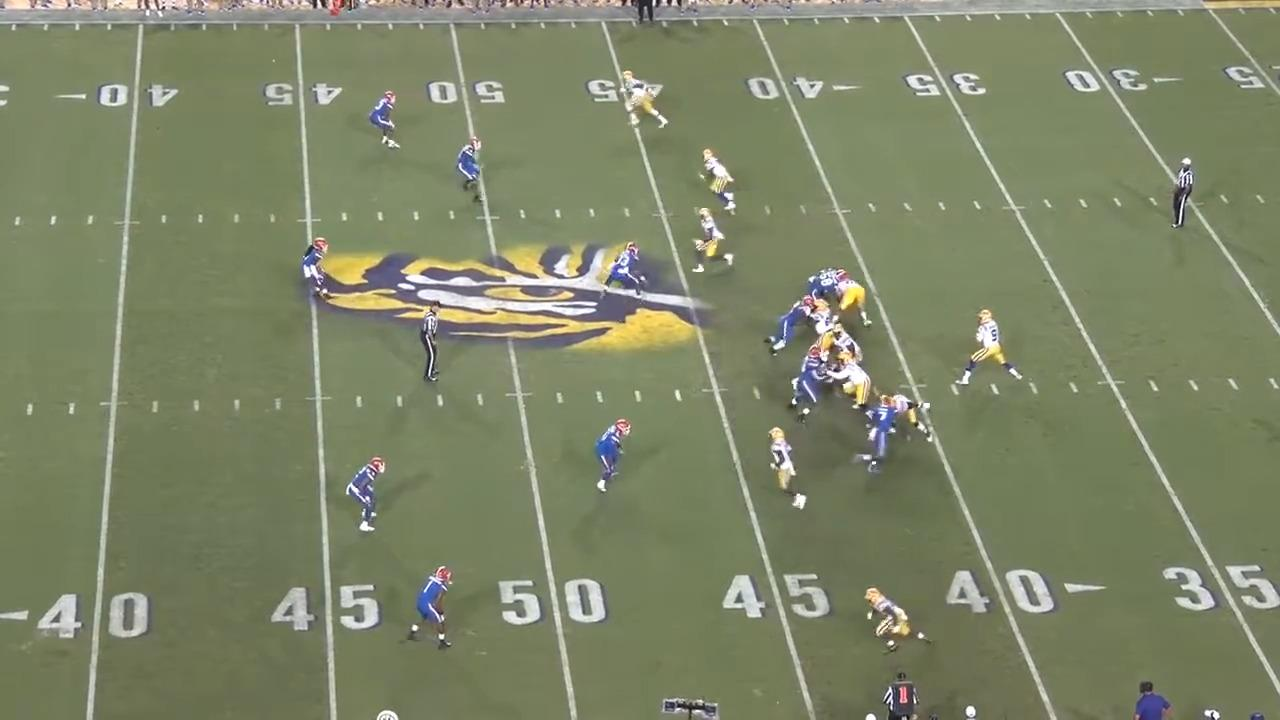player: (959, 306, 1026, 389), (865, 586, 934, 655), (405, 566, 456, 656), (855, 396, 905, 480), (761, 425, 808, 514), (345, 452, 388, 537), (691, 205, 740, 277), (592, 418, 635, 498), (617, 70, 668, 134), (596, 240, 643, 307), (697, 146, 741, 216), (787, 351, 830, 418), (768, 292, 813, 355), (887, 390, 938, 444), (298, 234, 333, 310), (831, 268, 872, 331), (834, 355, 877, 412), (365, 90, 401, 152), (457, 134, 489, 198), (809, 267, 844, 301), (831, 325, 864, 360), (810, 295, 839, 333)
ref: (414, 303, 450, 390), (1171, 154, 1204, 233), (884, 669, 926, 719), (630, 0, 662, 27)
